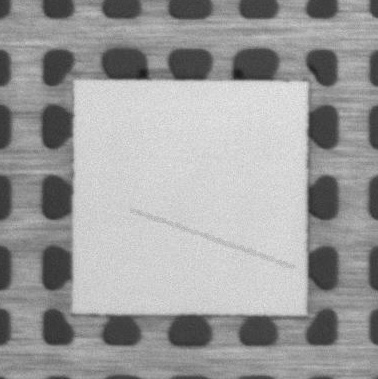DIE_CRACK: (131, 211, 293, 268)
